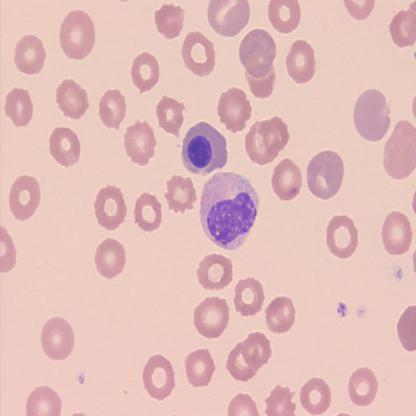NRC: (180, 120, 230, 178)
